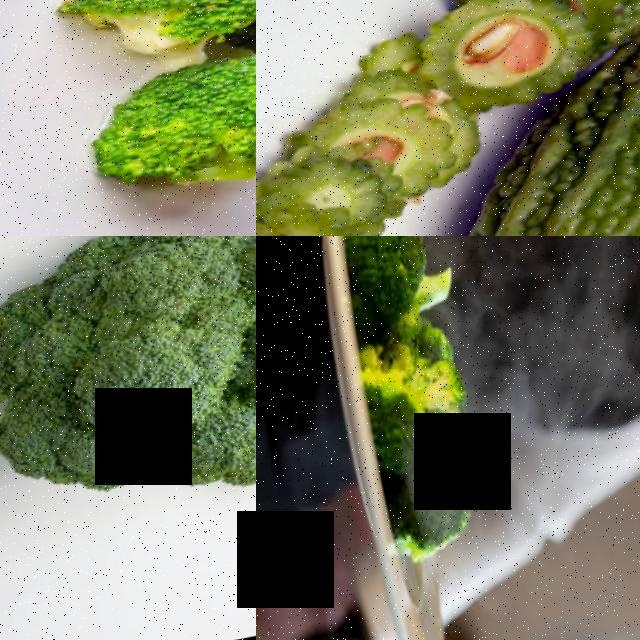bitter gourd: (477, 106, 640, 236)
broccoli: (0, 236, 256, 587), (328, 236, 488, 581), (90, 31, 256, 212), (16, 0, 256, 79)
